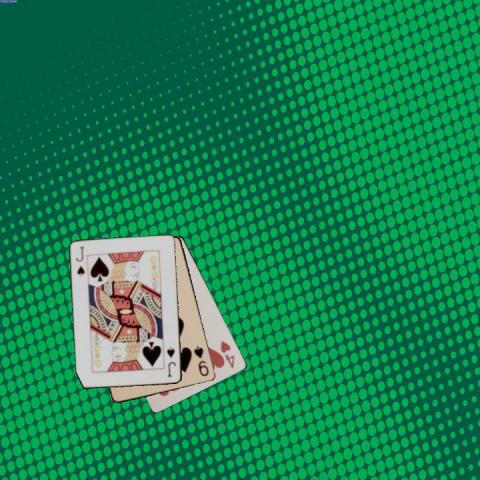4h: (218, 338, 236, 370)
9s: (191, 343, 211, 378)
Js: (164, 344, 177, 379), (73, 243, 86, 278)
